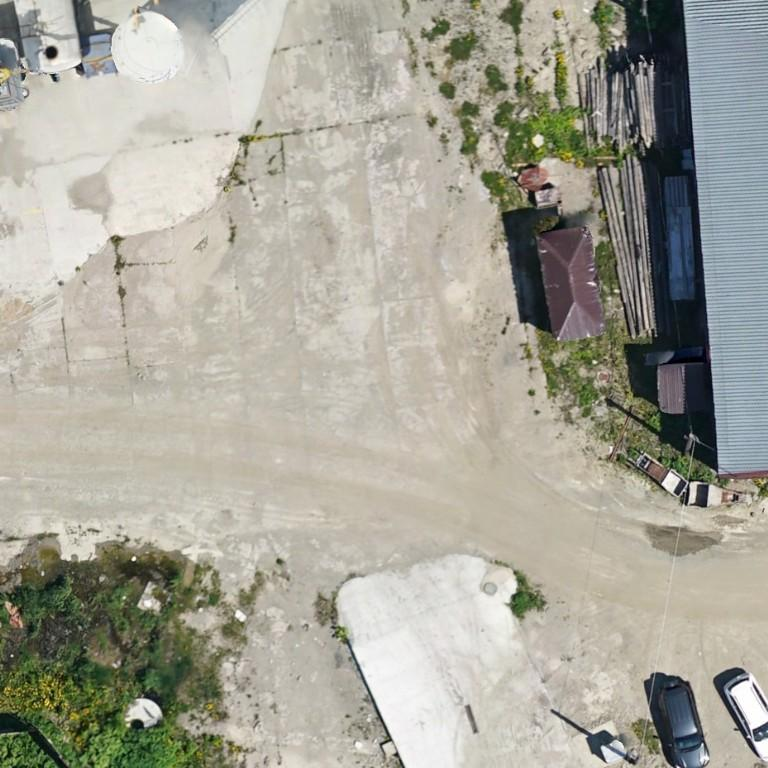hogweed: (112, 723, 196, 767), (0, 736, 63, 767)
